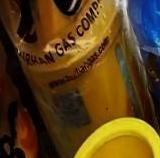cylinder: (1, 1, 160, 158)
